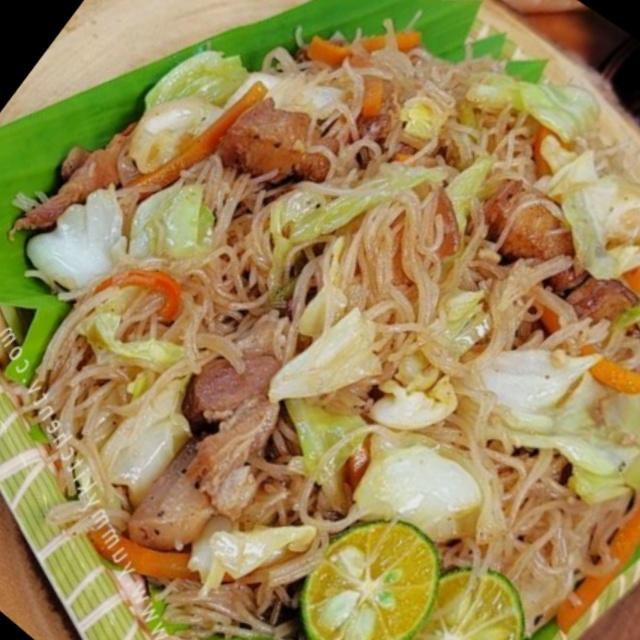pancit bihon: (31, 41, 639, 629)
